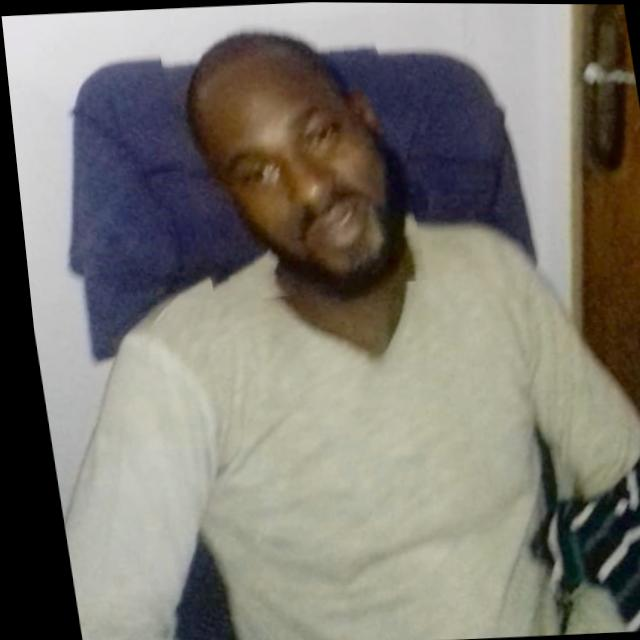happy: (157, 13, 420, 301)
